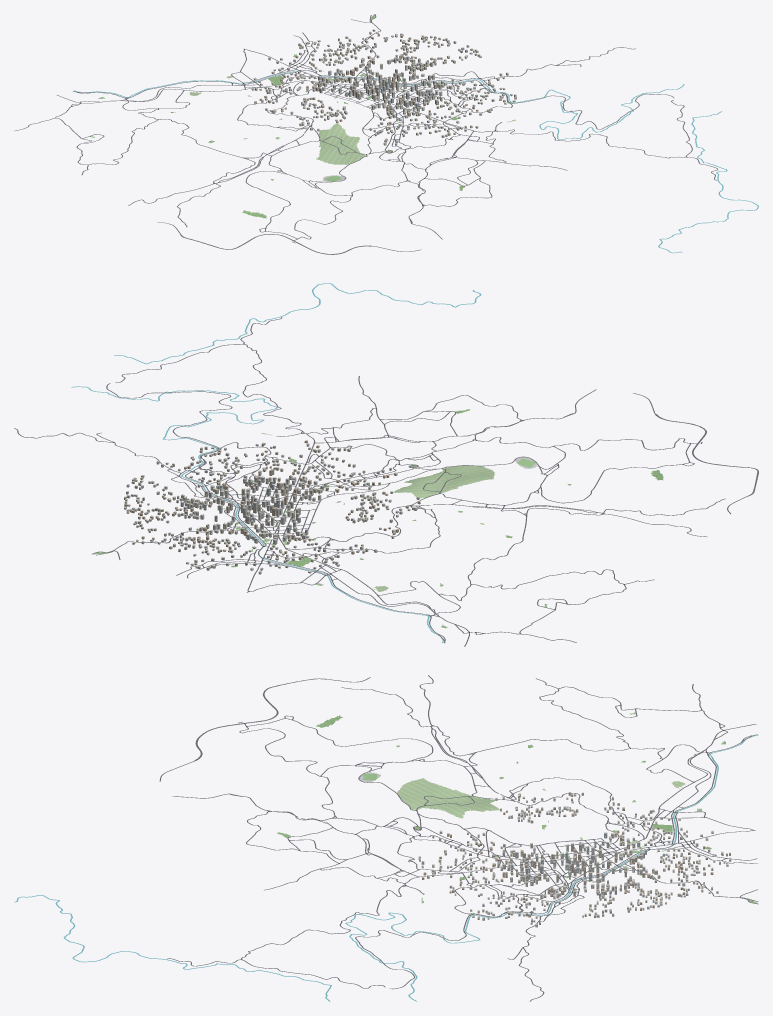
Rendered from mundo-cidade.glb.
The picture shows the model from 3 angles, top to bottom: view 1: azimuth 30°, elevation 25°; view 2: azimuth 150°, elevation 25°; view 3: azimuth 270°, elevation 25°; orthographic projection. The views are drawn at different scales.
Visible parts, largest first — view 1: roads, Predios, ground; view 2: roads, Predios, ground; view 3: roads, Predios, ground.
Part boxes in pixels (x1,y1,x2,y2): roads: (14,14,718,254); Predios: (251,29,516,145); ground: (74,14,758,253); roads: (14,317,758,646); Predios: (124,440,420,574); ground: (71,283,663,642); roads: (159,675,758,1001); Predios: (418,792,731,927); ground: (14,712,758,1001).
Bounding box in the file's own units: 5893 × 139 × 5871.
5 materials, 2 textured.
